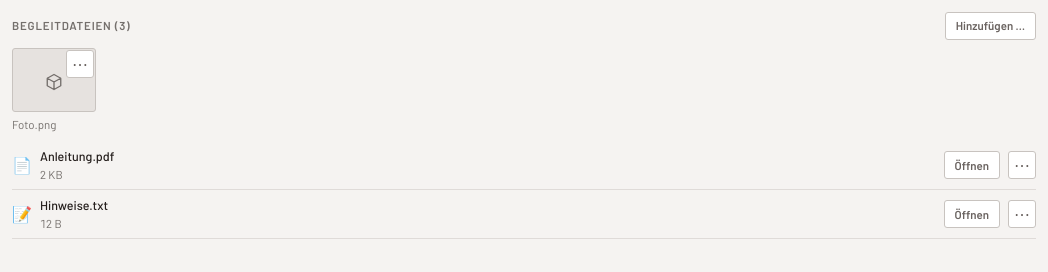
Test case: CompanionSection › removes through the menu, reloads, announces it and keeps focus on a live control
The width and height of the screenshot is (1048, 272).
Expected: the text "Anleitung.pdf" is shown, [40,148,114,164]
Click the button named "Weitere Aktionen für Anleitung.pdf". click: {"x": 1022, "y": 165}
box: [1008,151,1036,179]
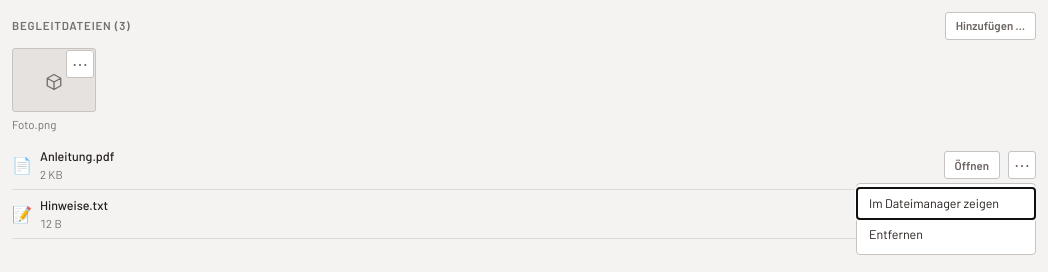
Click the menu item "Entfernen". click: {"x": 946, "y": 234}
box: [857,219,1035,250]
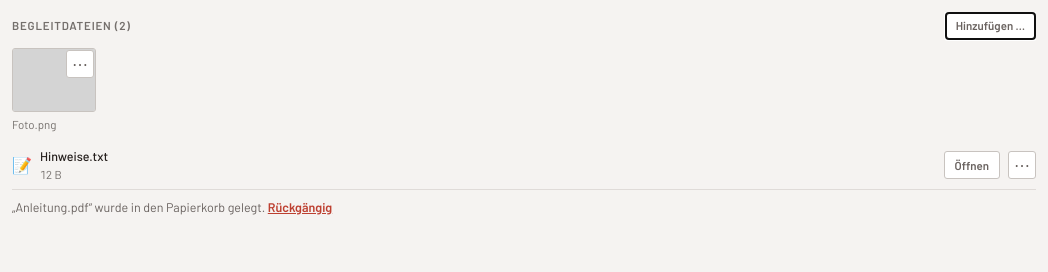
Result: the text "„Anleitung.pdf“ wurde in den Papierkorb gelegt." is shown at [12,199,265,215]
